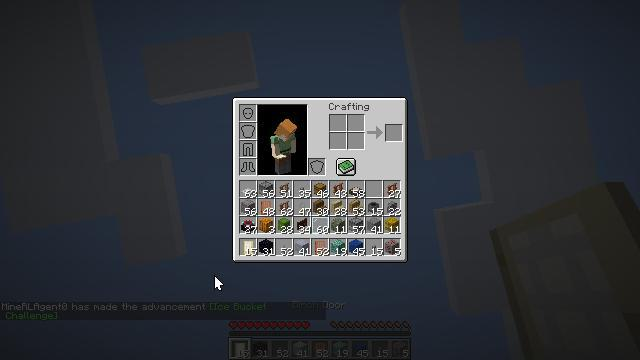cursor: (275, 214, 291, 224)
